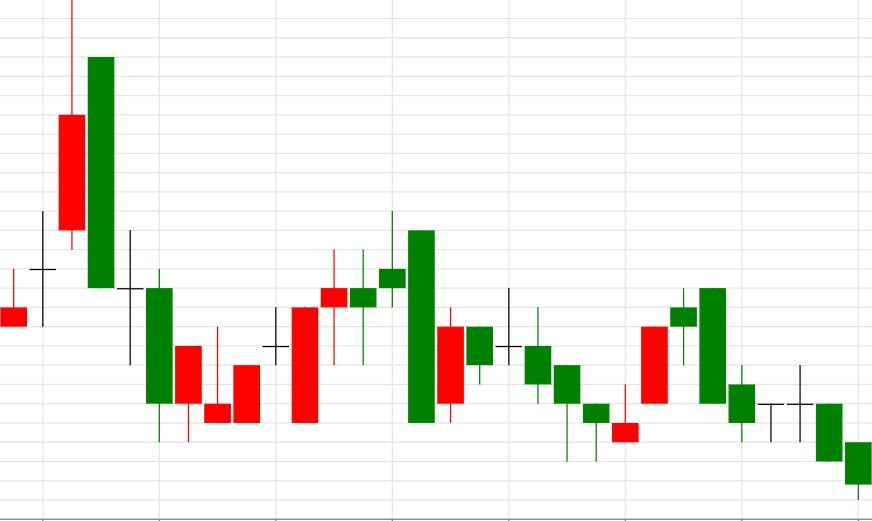inverse_hammer_rise: (58, 0, 232, 443), (495, 287, 640, 463)
